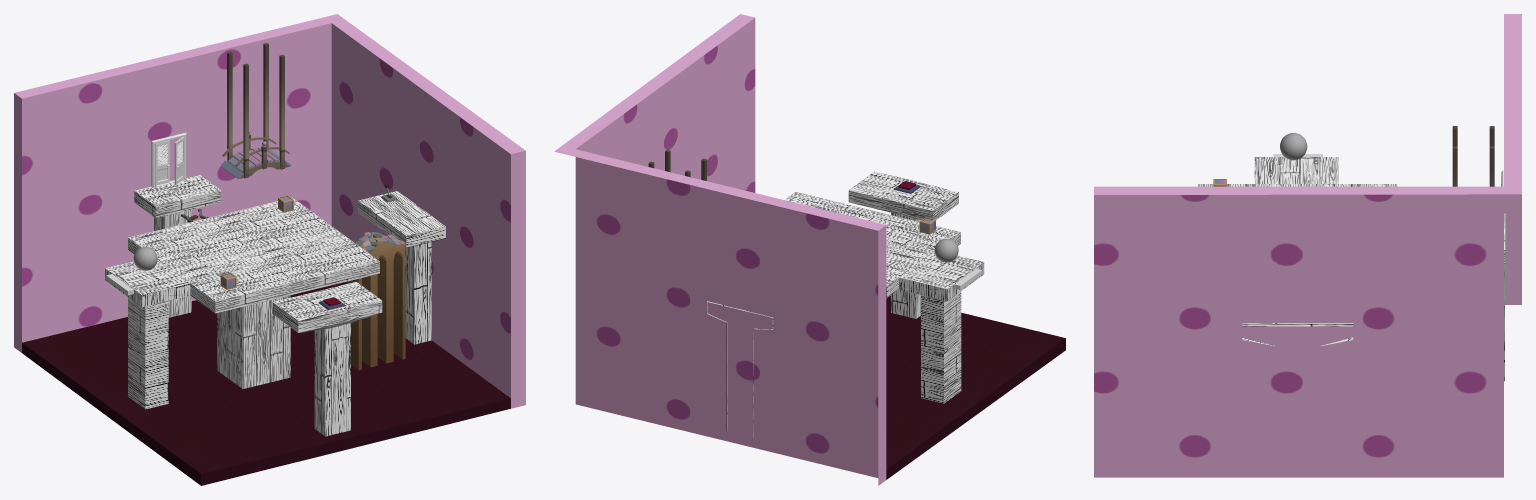
The model's file is Level[One].fbx.
The picture shows the model from 3 angles, left to right: view 1: azimuth 30°, elevation 25°; view 2: azimuth 150°, elevation 25°; view 3: azimuth 270°, elevation 25°; orthographic projection. The views are drawn at different scales.
Parts seen in each view (by area): view 1: _wallLeft, _wallRight, _wallVoid, _platformMain, _platformPressurePad, _platformEntrance, _platformSwitch, _Tiles2, _TreeBridgeFallDown, _platformGoal, _pSphere6; view 2: _wallLeft, _wallRight, _wallVoid, _platformEntrance, _platformPressurePad, _platformMain; view 3: _wallRight, _wallLeft, _platformEntrance, _TreeBridgeFallDown, _pSphere1, _platformSwitch, _platformMain.
Boxes of the visible parts, x1,y1,x2,y2 form: _wallLeft: (14, 14, 337, 352); _wallRight: (331, 14, 525, 408); _wallVoid: (22, 282, 510, 485); _platformMain: (128, 197, 379, 388); _platformPressurePad: (272, 281, 382, 436); _platformEntrance: (105, 260, 190, 409); _platformSwitch: (358, 191, 445, 344); _Tiles2: (346, 232, 405, 370); _TreeBridgeFallDown: (221, 43, 291, 178); _platformGoal: (134, 175, 221, 317); _pSphere6: (151, 132, 186, 186); _wallLeft: (555, 149, 886, 485); _wallRight: (554, 14, 755, 192); _wallVoid: (886, 295, 1065, 479); _platformEntrance: (899, 251, 984, 403); _platformPressurePad: (848, 171, 958, 318); _platformMain: (784, 192, 960, 298); _wallRight: (1094, 186, 1520, 477); _wallLeft: (1504, 14, 1521, 304); _platformEntrance: (1254, 157, 1338, 183); _TreeBridgeFallDown: (1452, 126, 1494, 186); _pSphere1: (1280, 133, 1307, 160); _platformSwitch: (1242, 323, 1353, 345); _platformMain: (1197, 184, 1397, 186).
Bounding box in the file's own units: 31.18 × 23.51 × 31.12.
